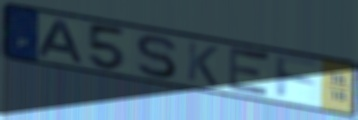5: (85, 22, 132, 73)
A: (37, 18, 87, 66)
E: (226, 44, 273, 101)
F: (272, 53, 322, 101)
K: (185, 39, 221, 89)
S: (133, 33, 180, 80)
